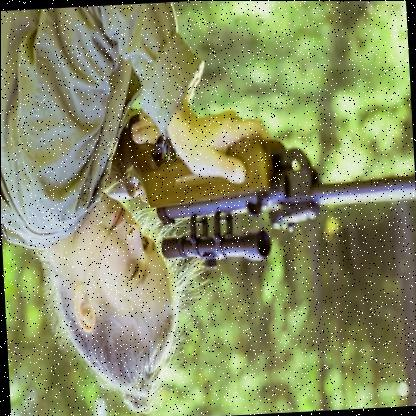rifle: (113, 106, 416, 267)
